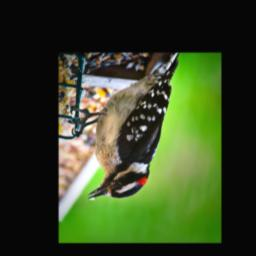Woodpecker: (68, 53, 180, 200)
